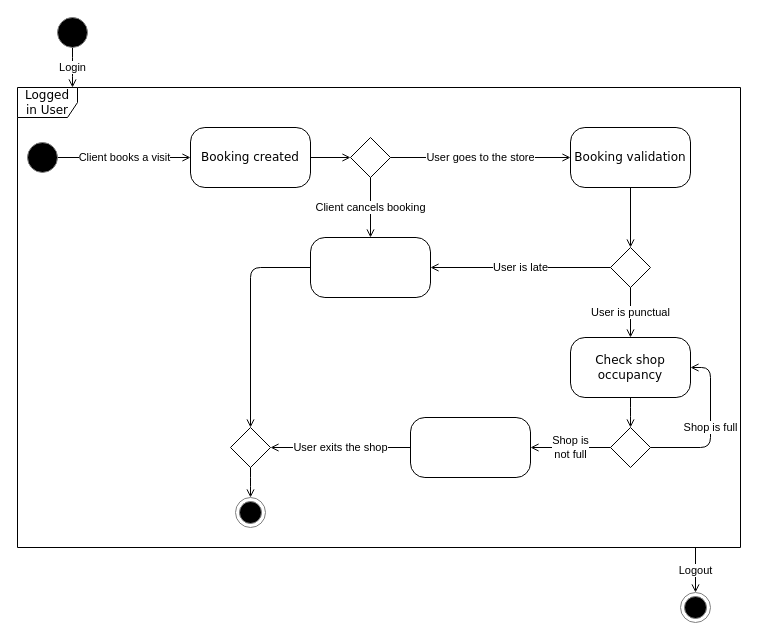
Some shapes in this 758 by 640 pixel diagram are drawn without their labels. Each missing label, with the centre of its shape:
"Booking cancelled" goes at point (370, 267).
"User is allowed into the shop" goes at point (470, 447).
